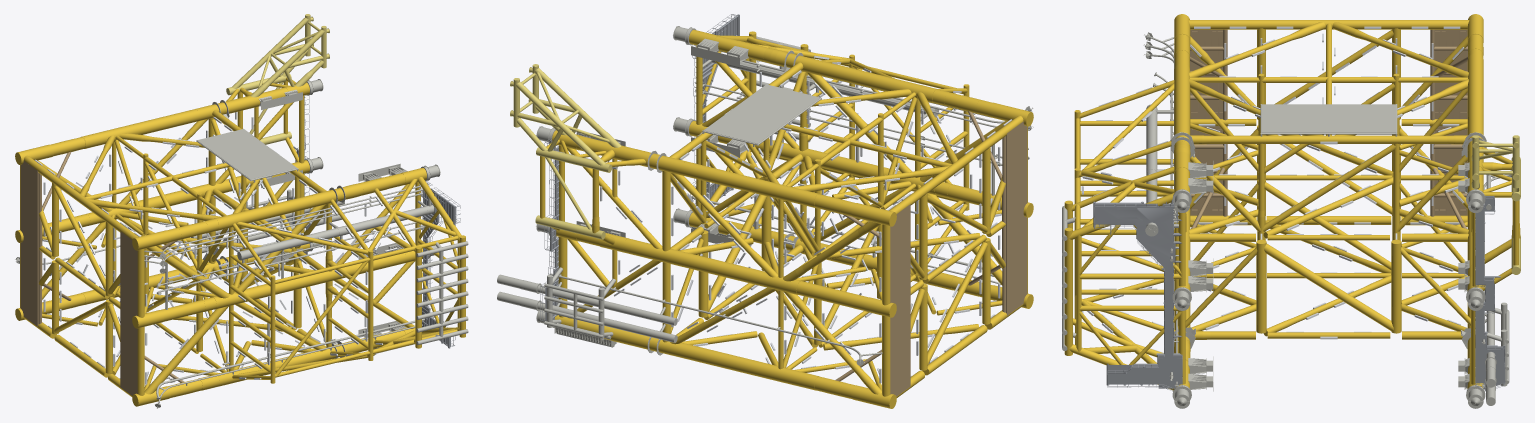
The model's file is jacket.glb.
3 views of the same model, side by side, from view 1: azimuth 30°, elevation 25°; view 2: azimuth 150°, elevation 25°; view 3: azimuth 270°, elevation 25° (orthographic). The views are drawn at different scales.
Visible parts, largest first — view 1: jacket; view 2: jacket; view 3: jacket.
Boxes of the visible parts, box(x1,y1,x2,y2) form: jacket: box(15, 14, 468, 408); jacket: box(497, 14, 1033, 408); jacket: box(1062, 14, 1520, 408).
Size of the model in its own units: 70.99 by 46.05 by 67.99.
